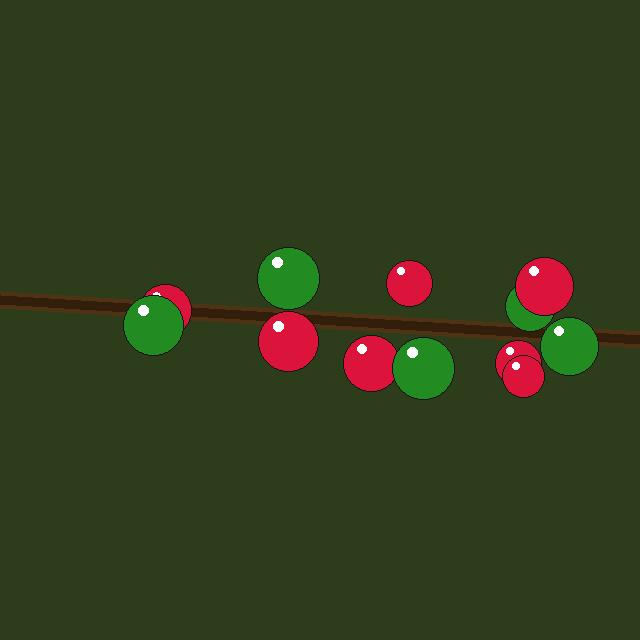Ripe: (258, 311, 318, 371), (515, 257, 573, 315), (343, 335, 399, 391), (139, 284, 191, 336), (495, 340, 541, 386), (386, 260, 432, 306), (502, 355, 544, 397)
Unripe: (257, 247, 319, 309), (392, 337, 454, 399), (123, 295, 183, 355), (540, 317, 598, 375), (505, 281, 555, 331)
